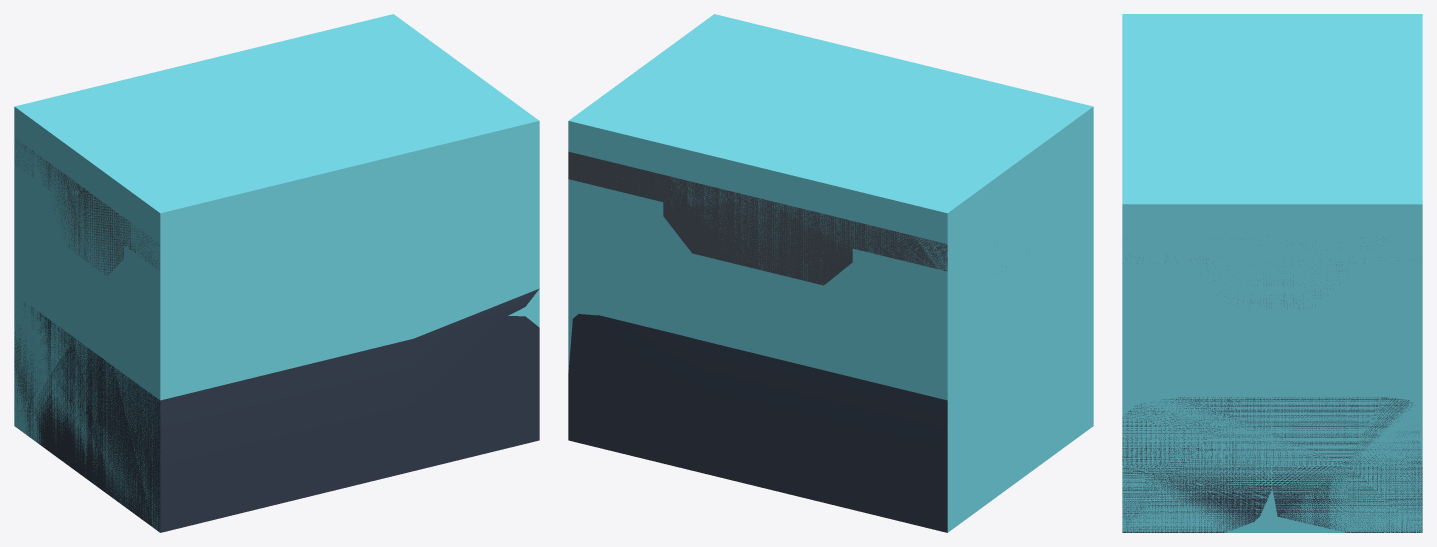
The model's file is PBOX32_MudFlA_02.FBX.
3 renders of one model, left to right at view 1: azimuth 30°, elevation 25°; view 2: azimuth 150°, elevation 25°; view 3: azimuth 270°, elevation 25°, orthographic. The views are drawn at different scales.
Visible parts, largest first — view 1: PBOX32_MudFlA_02, PBOX23_SUB_TAB_FlA_005, PBOX32_SUB_MudFlA_004; view 2: PBOX32_MudFlA_02, PBOX23_SUB_TAB_FlA_005, PBOX32_SUB_MudFlA_004; view 3: PBOX32_MudFlA_02, PBOX23_SUB_TAB_FlA_005.
Part boxes in pixels (<box>): PBOX32_MudFlA_02: <box>14,14,539,531</box>; PBOX23_SUB_TAB_FlA_005: <box>14,288,539,532</box>; PBOX32_SUB_MudFlA_004: <box>15,138,159,275</box>; PBOX32_MudFlA_02: <box>568,14,1093,532</box>; PBOX23_SUB_TAB_FlA_005: <box>568,314,947,532</box>; PBOX32_SUB_MudFlA_004: <box>568,151,947,285</box>; PBOX32_MudFlA_02: <box>1122,14,1422,532</box>; PBOX23_SUB_TAB_FlA_005: <box>1122,397,1422,532</box>.
Size of the model in its own units: 18 by 14.5 by 12.
